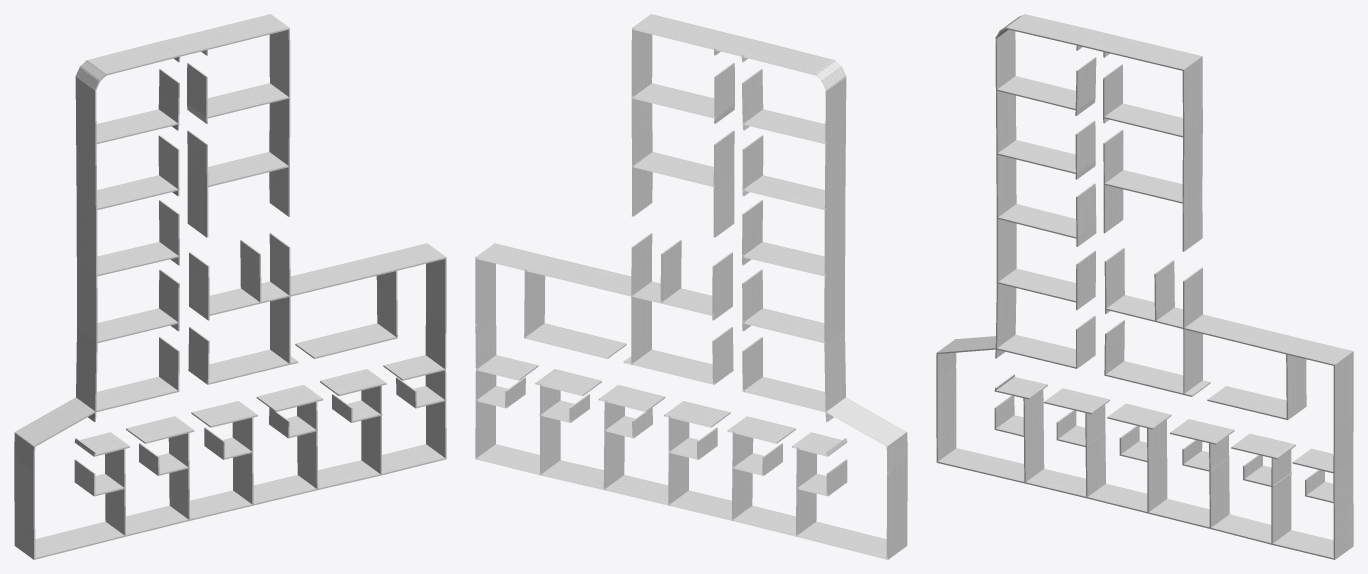
File: wall_1.obj
3 views of the same model, side by side, from view 1: azimuth 30°, elevation 25°; view 2: azimuth 150°, elevation 25°; view 3: azimuth 330°, elevation 25° (orthographic). The views are drawn at different scales.
Visible parts, largest first — view 1: walls; view 2: walls; view 3: walls.
Boxes of the visible parts, bbox=[...] form: walls: bbox=[14, 14, 446, 559]; walls: bbox=[475, 14, 907, 559]; walls: bbox=[936, 14, 1353, 559].
Bounding box in the file's own units: 30.93 × 33.61 × 2.5.
Materials: 1 (1 with a texture image).
